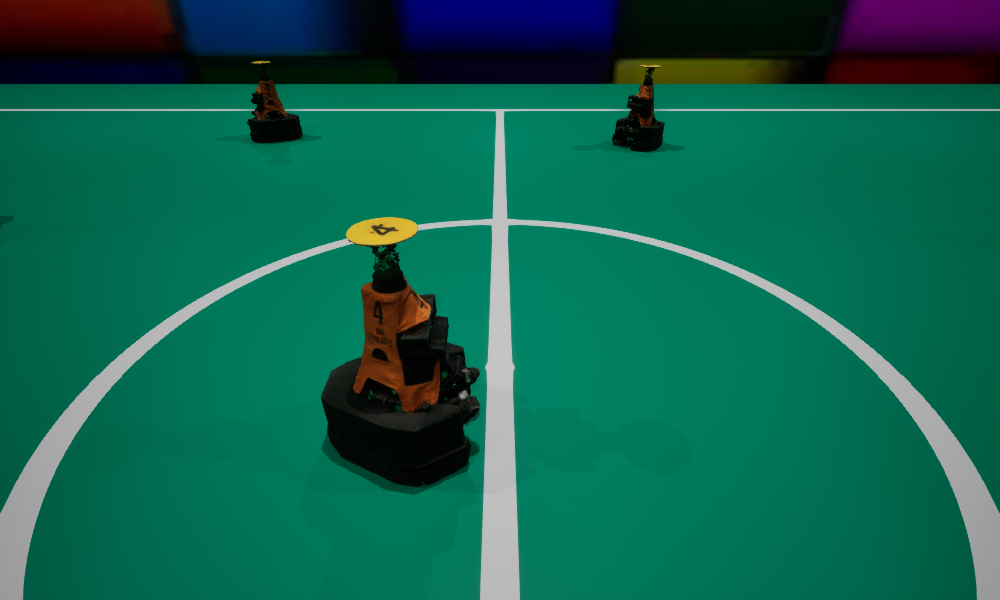o: (321, 217, 479, 486), (247, 61, 302, 142), (612, 65, 664, 150)
